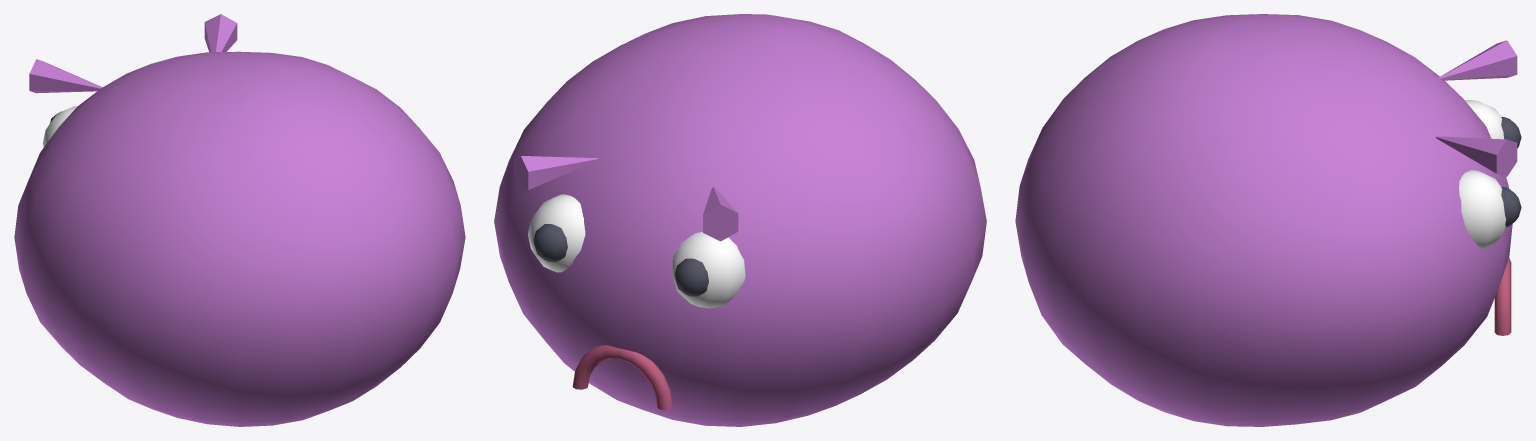
File: akudama.glb
The picture shows the model from 3 angles, left to right: view 1: azimuth 30°, elevation 25°; view 2: azimuth 150°, elevation 25°; view 3: azimuth 270°, elevation 25°; orthographic projection. The views are drawn at different scales.
Visible parts, largest first — view 1: akudama; view 2: akudama; view 3: akudama.
Part boxes in pixels (x1,y1,x2,y2): akudama: (14, 14, 465, 426); akudama: (494, 14, 986, 426); akudama: (1015, 14, 1521, 426).
Bounding box in the file's own units: 1.19 × 0.9516 × 1.22.
